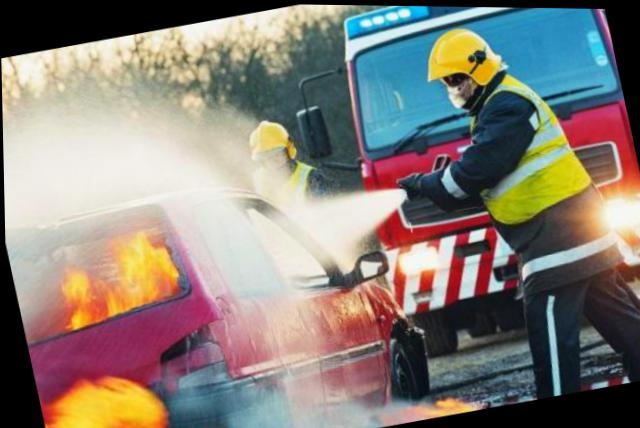fire: (3, 198, 276, 425)
